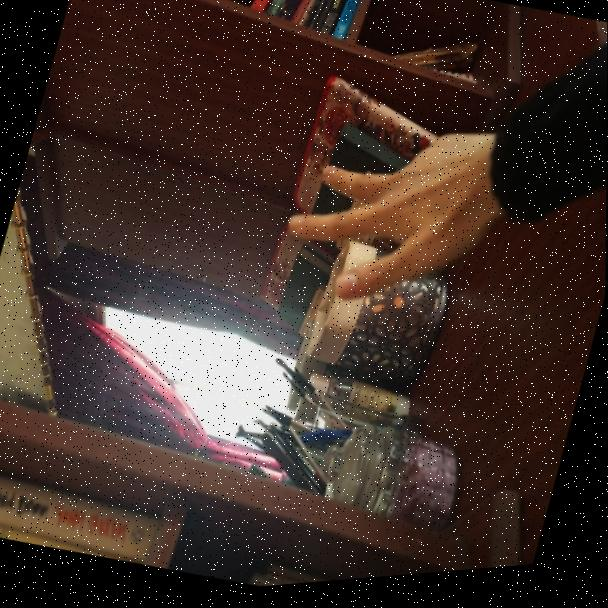three: (245, 61, 547, 397)
